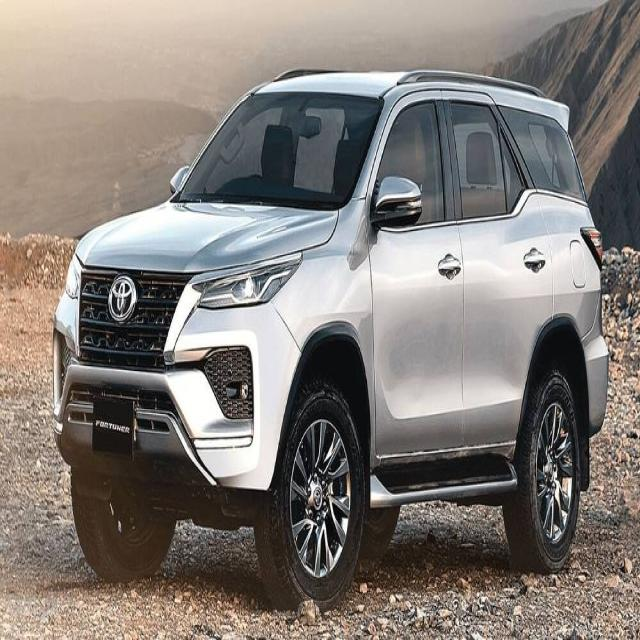light_vehicle: (51, 68, 609, 612)
